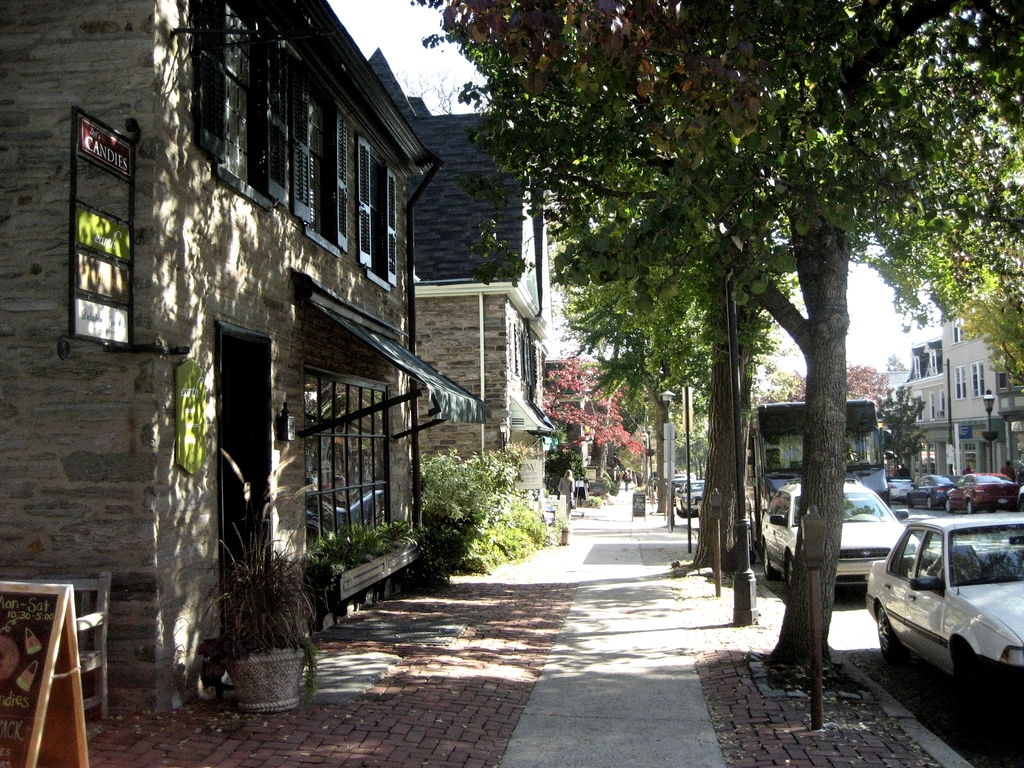Tree: (417, 23, 1023, 575), (538, 350, 643, 452)
